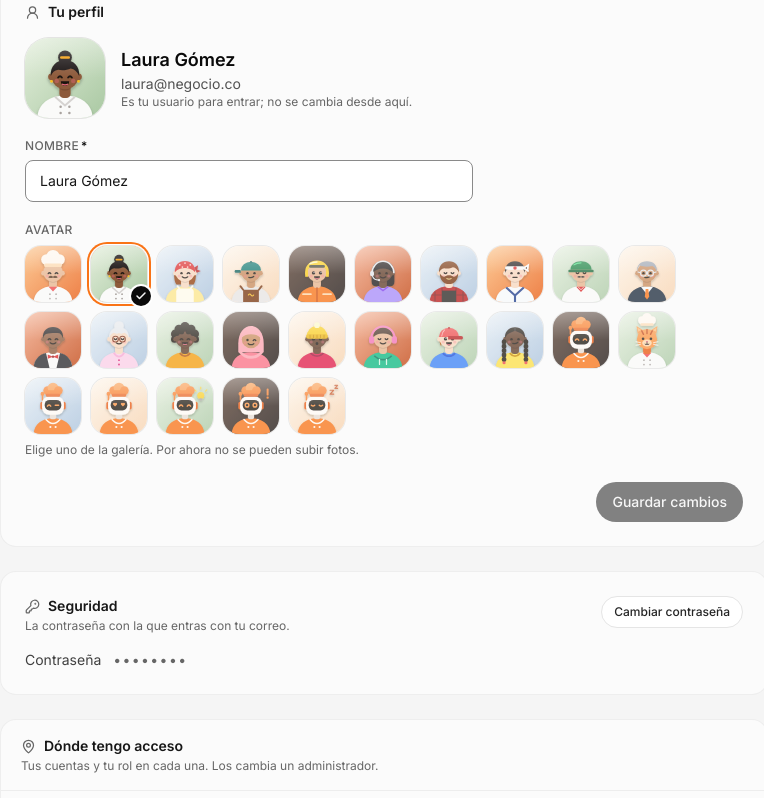
Scenario: Mi perfil › the password stays folded until «Cambiar contraseña»; then current, new and repeat, in that order
Expected: the field labelled "Contraseña actual" is not shown
Click the button "Cambiar contraseña" at (672, 612), box [601,596,743,628]
(page scrolled)
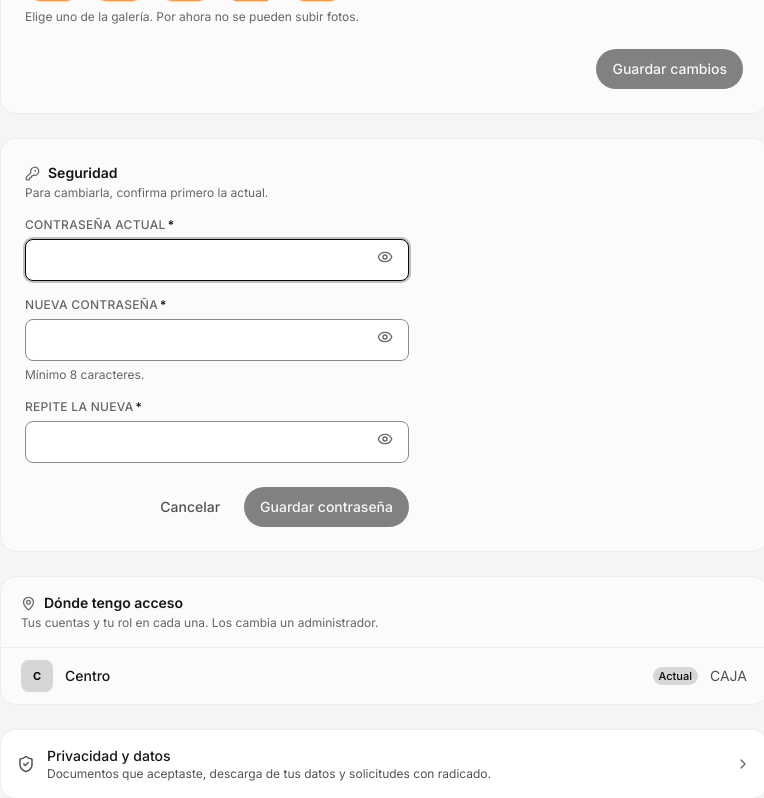
Click the button "Cancelar" at (190, 507), box [144,487,236,527]
(page scrolled)
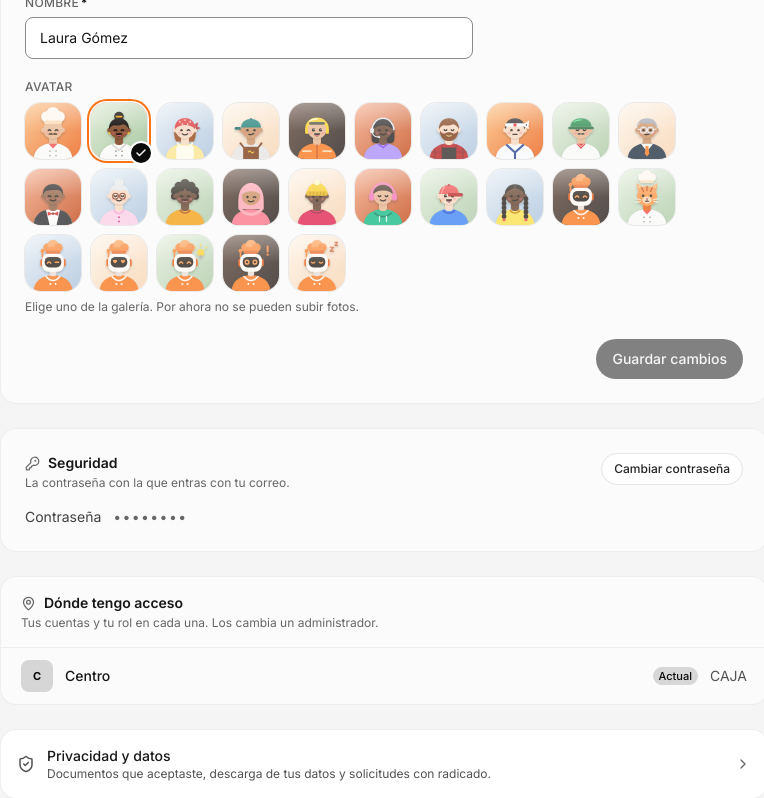
Expected: the label labelled "Contraseña actual" is gone
